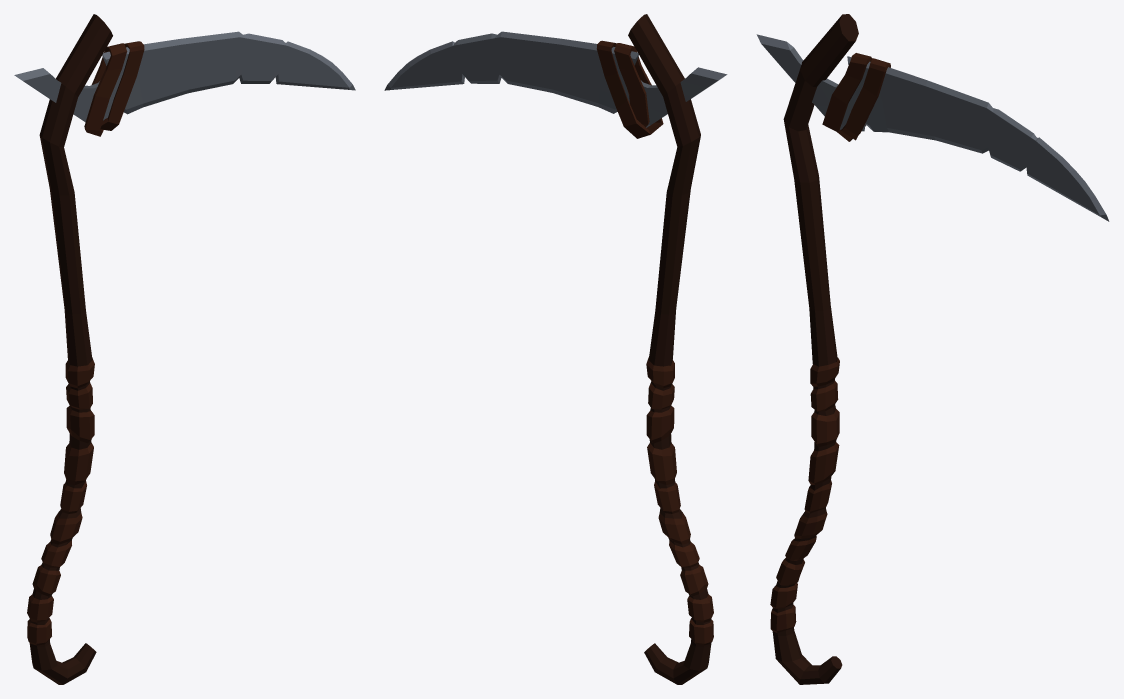
Rendered from Scythe.glb.
3 renders of one model, left to right at view 1: azimuth 30°, elevation 25°; view 2: azimuth 150°, elevation 25°; view 3: azimuth 330°, elevation 25°, orthographic. The views are drawn at different scales.
Parts seen in each view (by area): view 1: Scythe; view 2: Scythe; view 3: Scythe.
Boxes of the visible parts, x1=… form: Scythe: x1=14, y1=14, x2=355, y2=684; Scythe: x1=384, y1=14, x2=727, y2=684; Scythe: x1=756, y1=14, x2=1109, y2=684.
Size of the model in its own units: 303 by 558 by 27.71.
